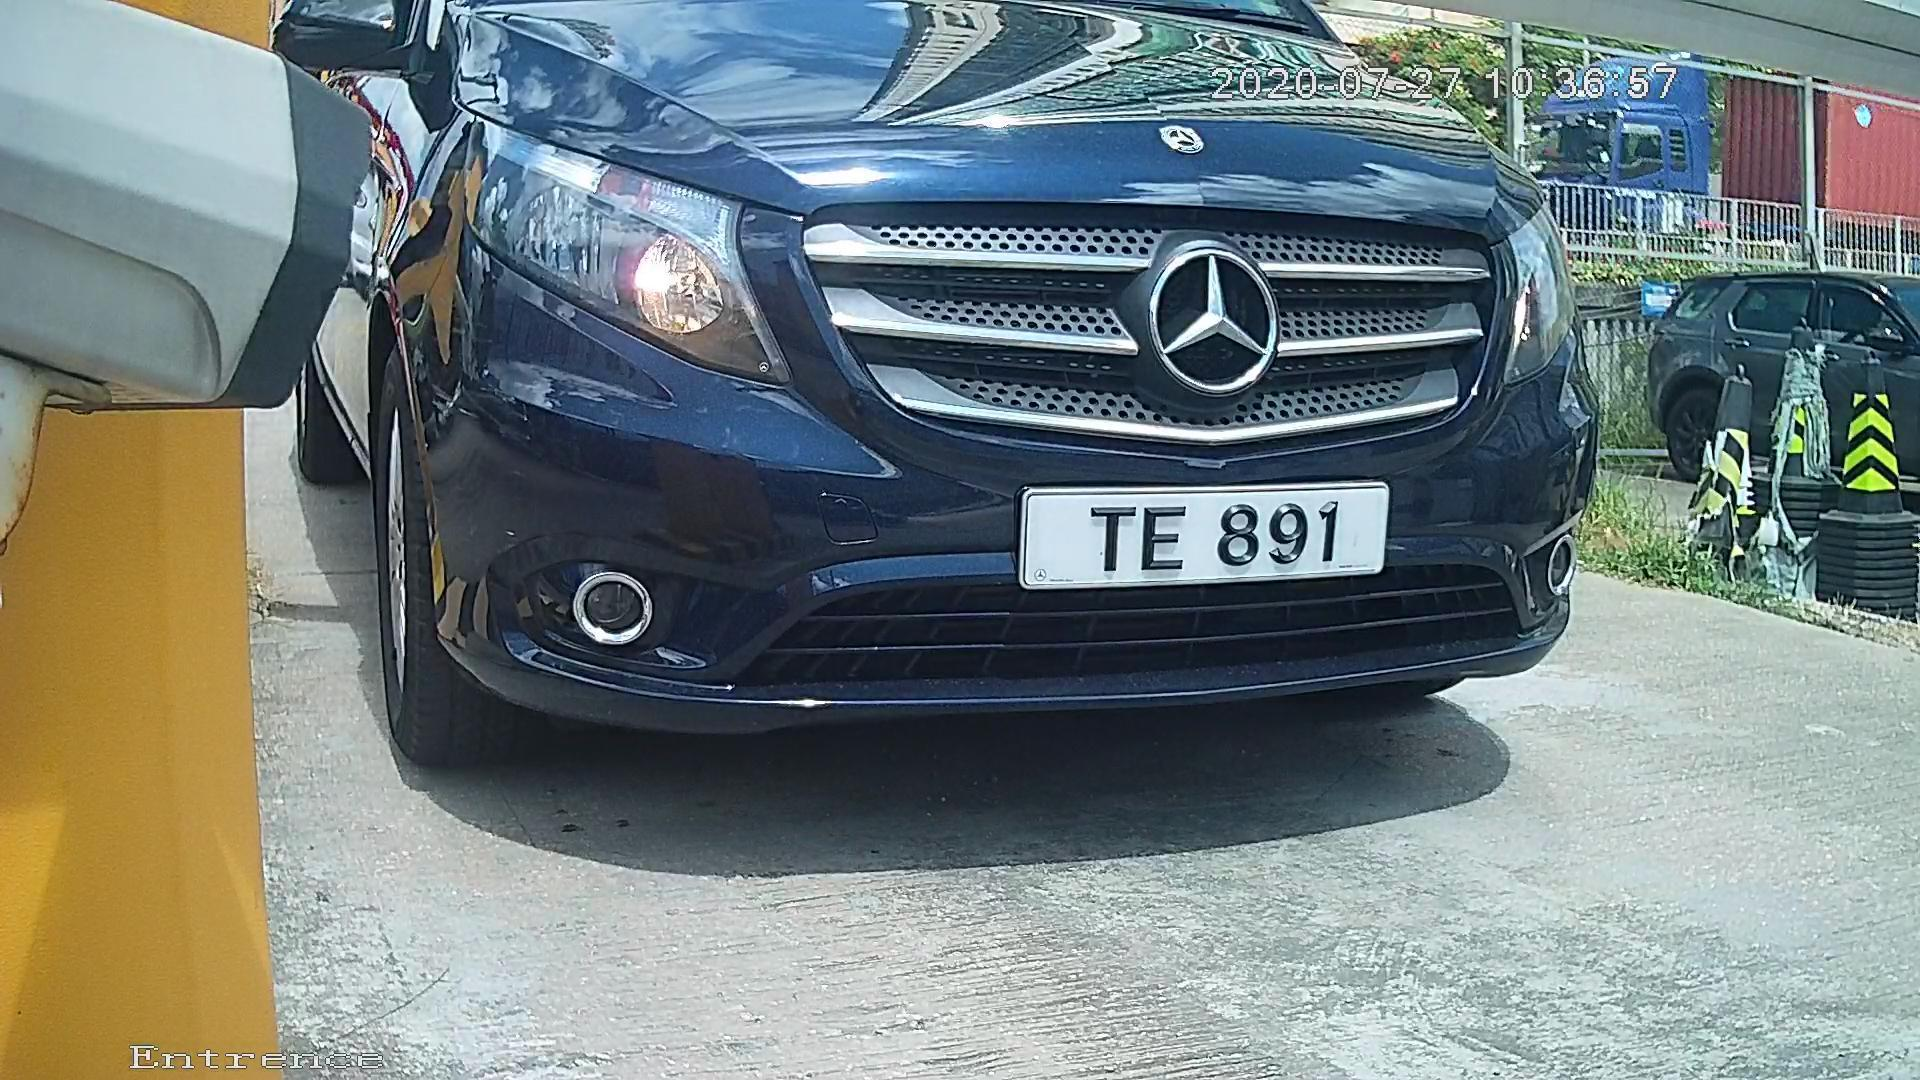Car: (223, 34, 1646, 801)
License Plate: (986, 468, 1432, 598)
